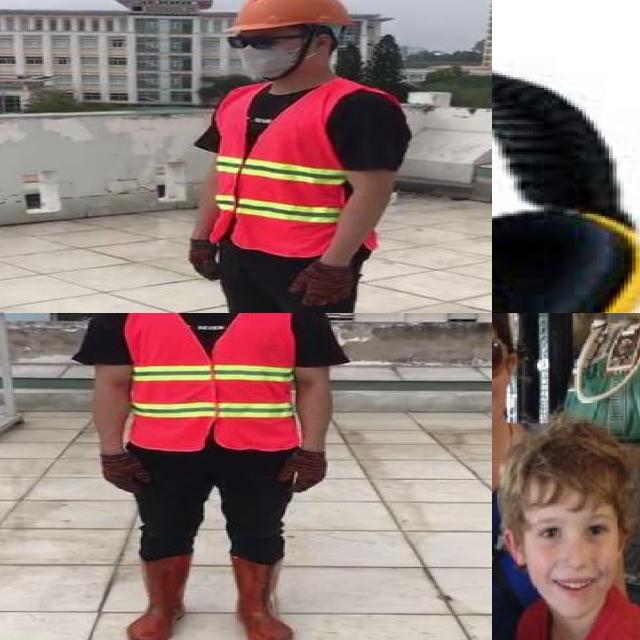Ear-protection: (492, 200, 640, 313)
boots: (226, 555, 295, 640), (130, 553, 196, 640)
face_mask: (225, 28, 300, 78)
face_nomask: (518, 508, 626, 605), (492, 327, 514, 434)
glasses: (222, 29, 282, 52), (492, 335, 513, 391)
hand_glove: (284, 265, 359, 305), (100, 453, 154, 495), (282, 450, 330, 493), (188, 237, 222, 284)
head_helmet: (229, 0, 355, 32)
head_nohelmet: (501, 407, 633, 498)
person: (72, 313, 348, 640), (162, 0, 420, 313)
vest: (209, 80, 382, 257), (123, 313, 297, 452)
